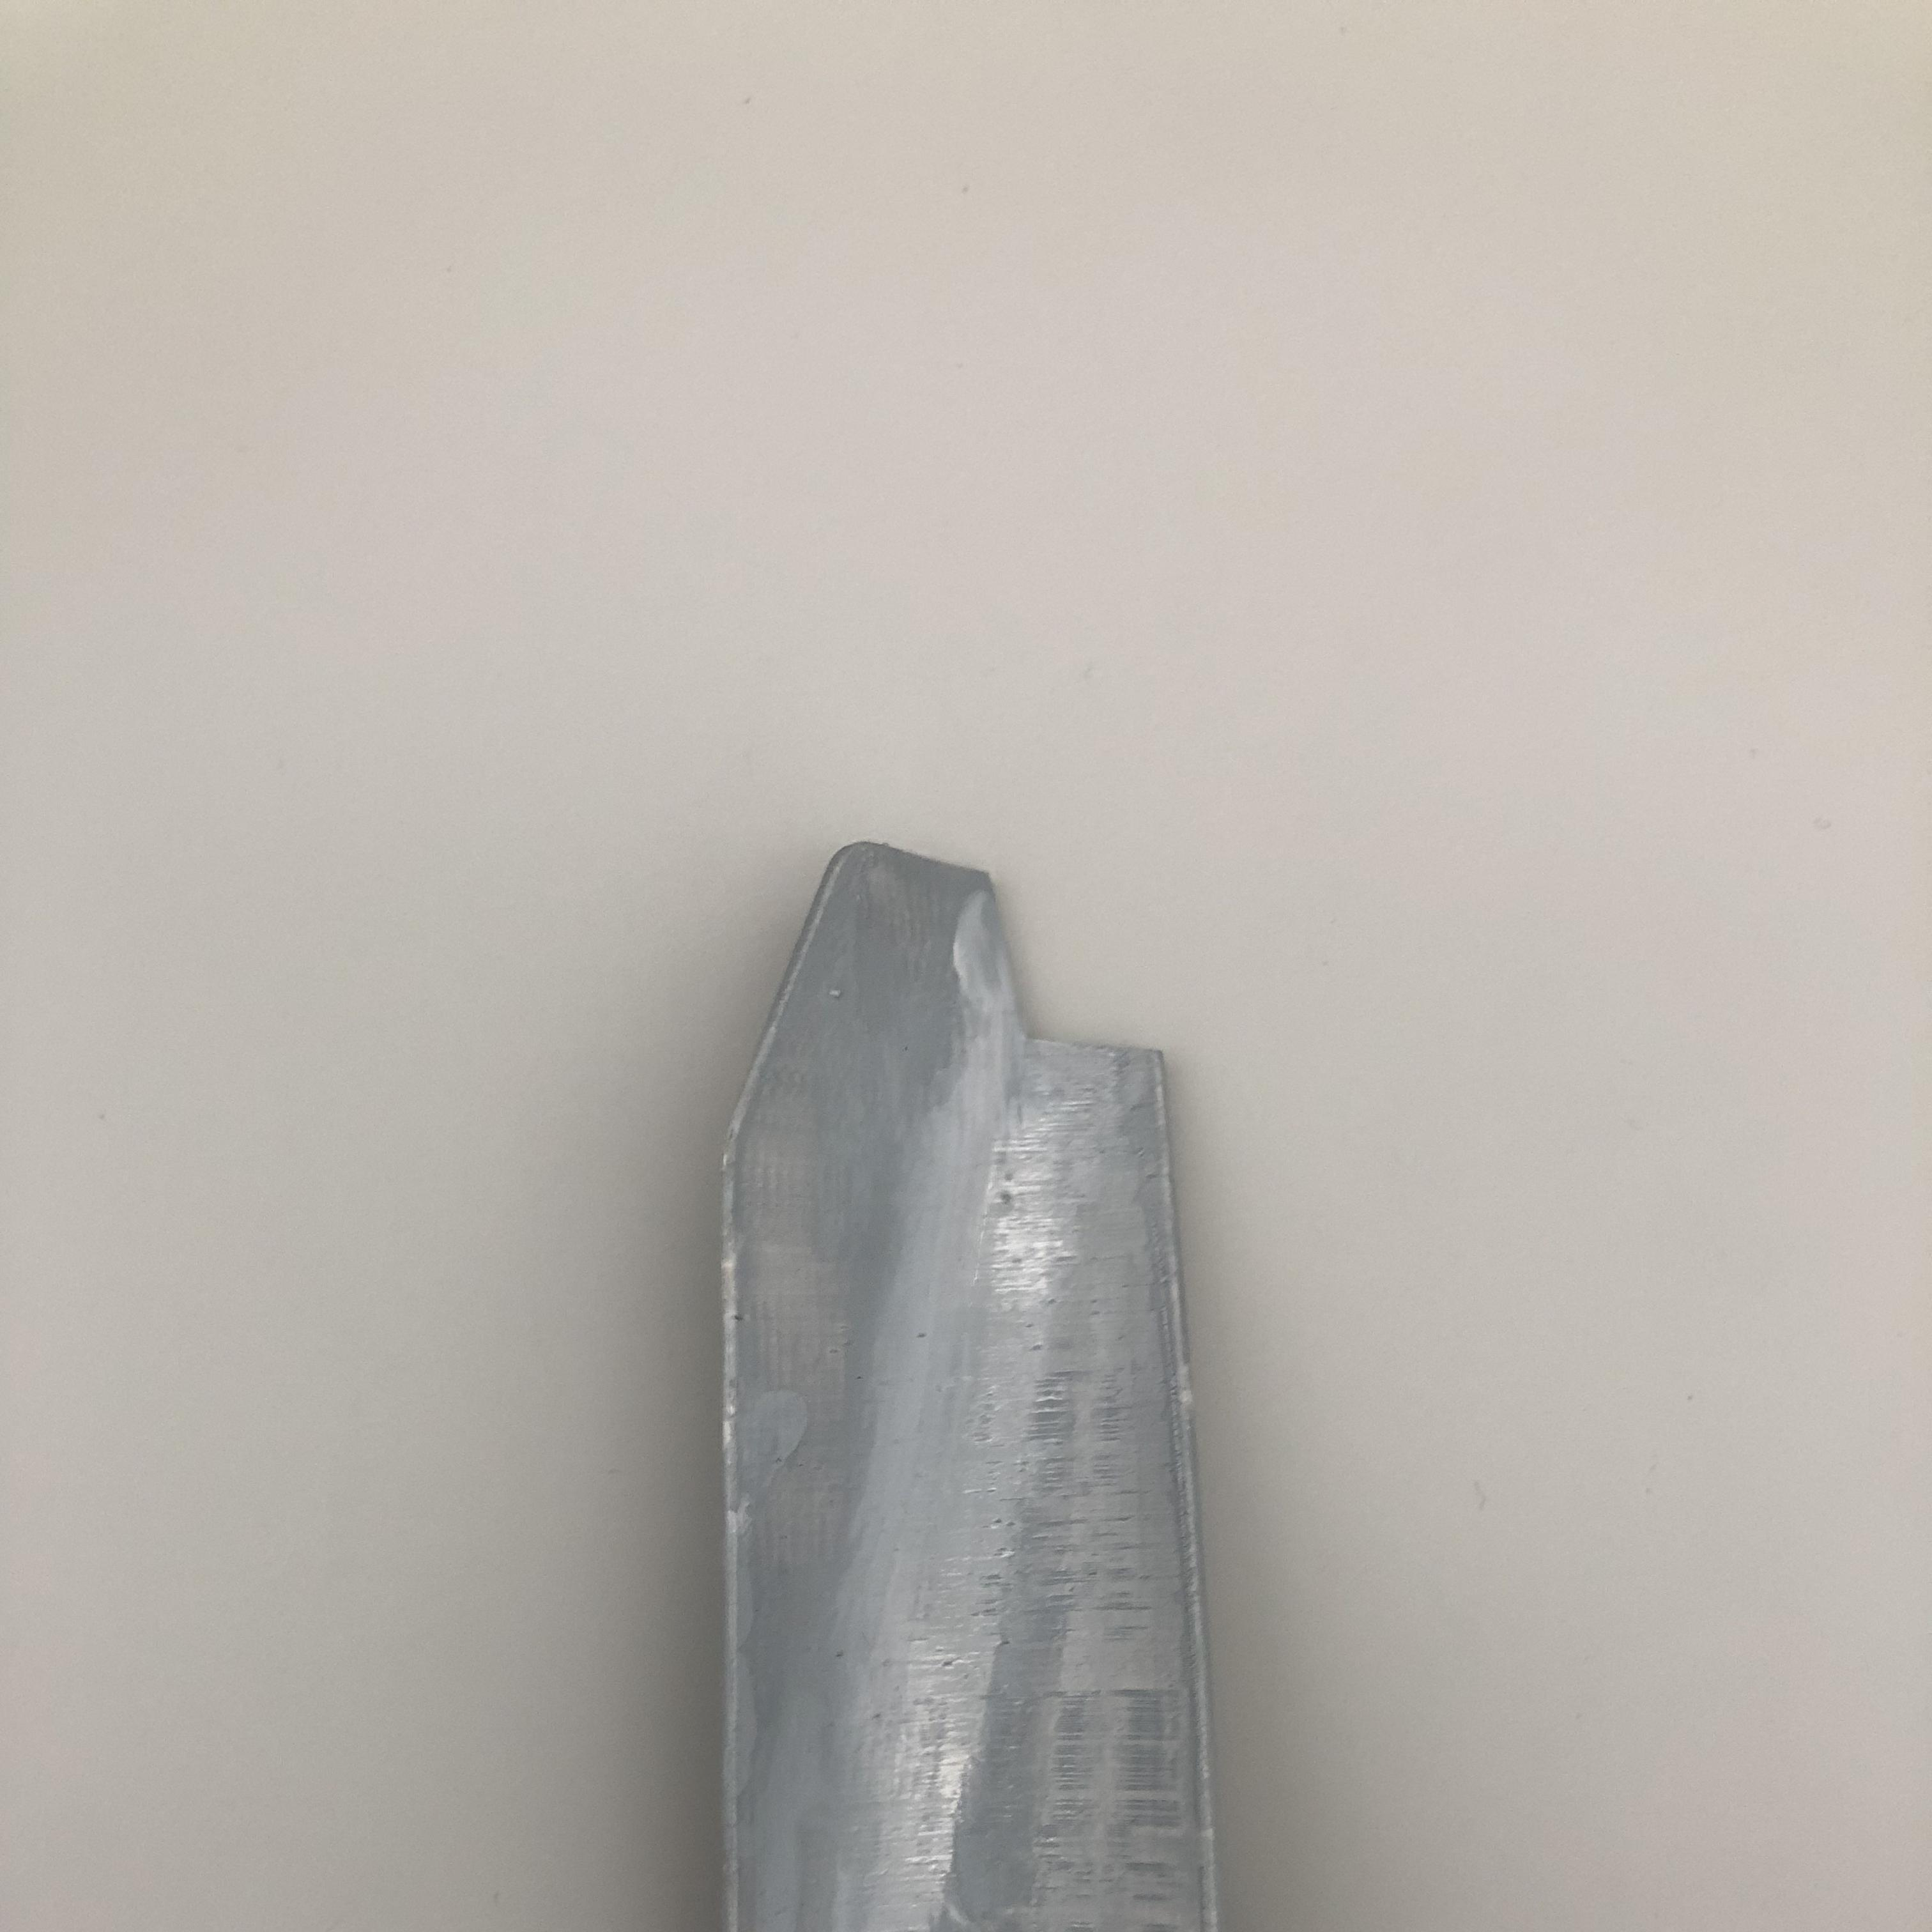fracture: (968, 860, 1164, 1074)
